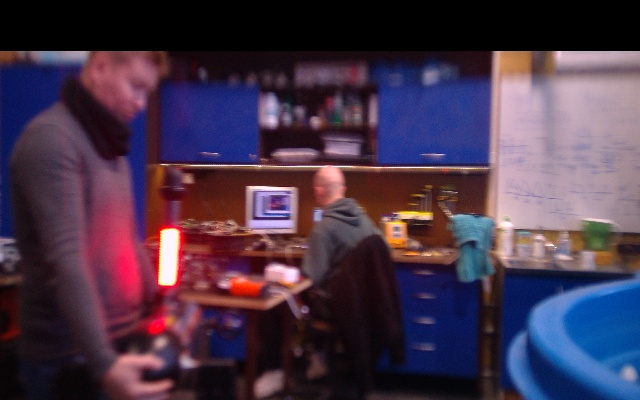red: (156, 227, 181, 290)
